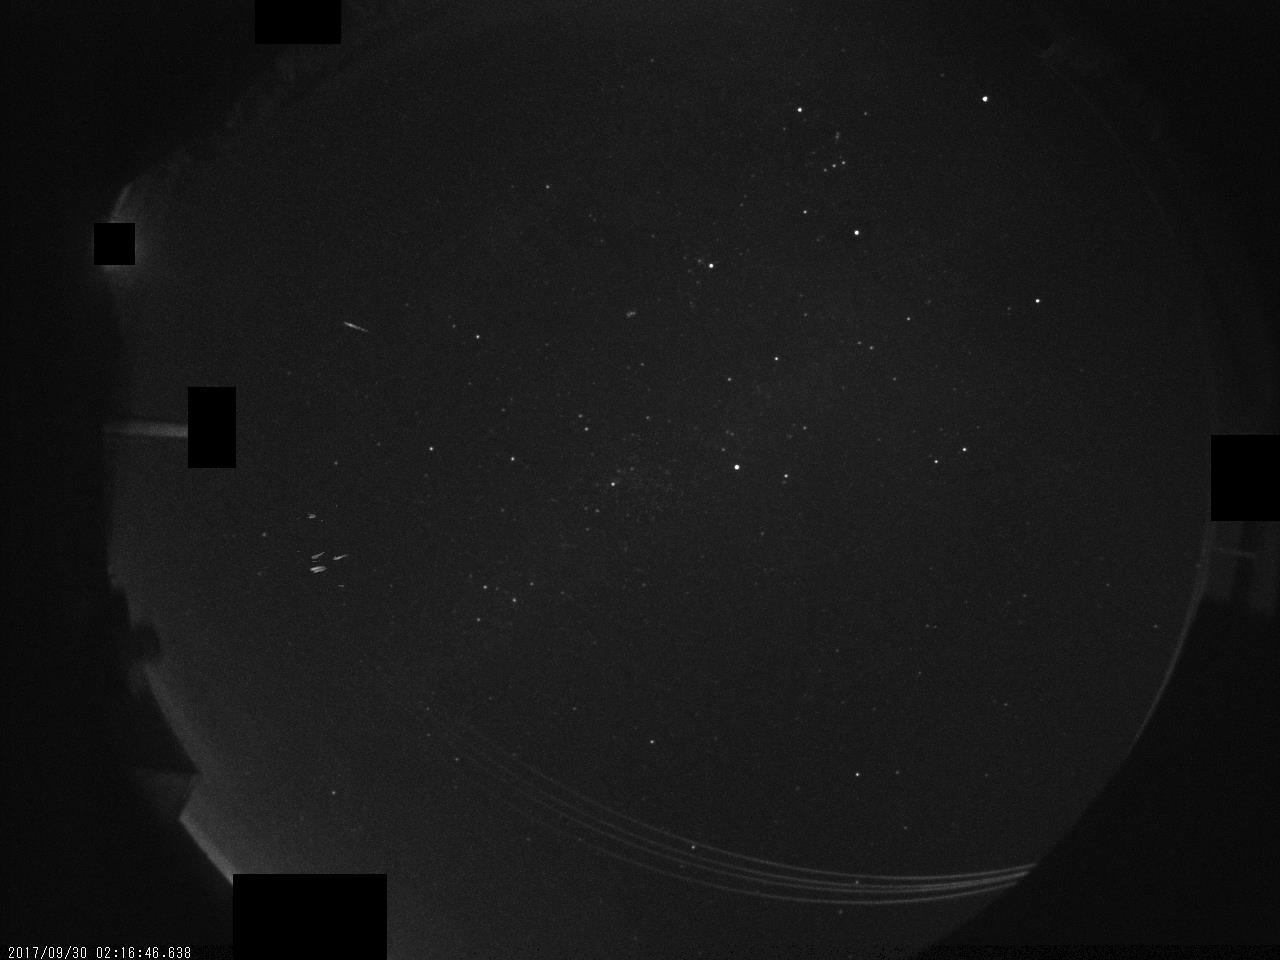TLE: (268, 487, 367, 600)
